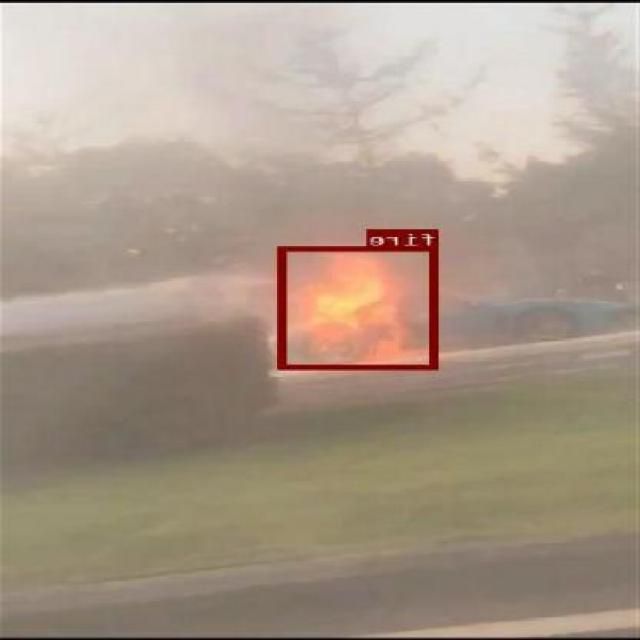Fire: (281, 246, 441, 368)
